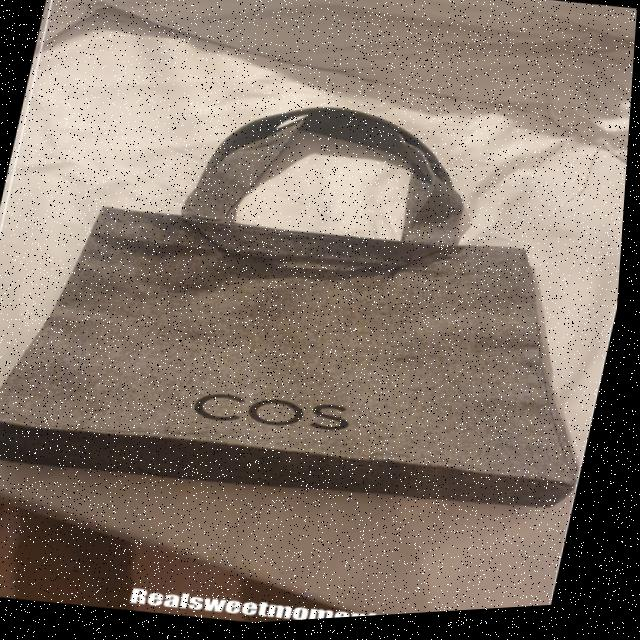ecobag: (0, 49, 636, 560)
